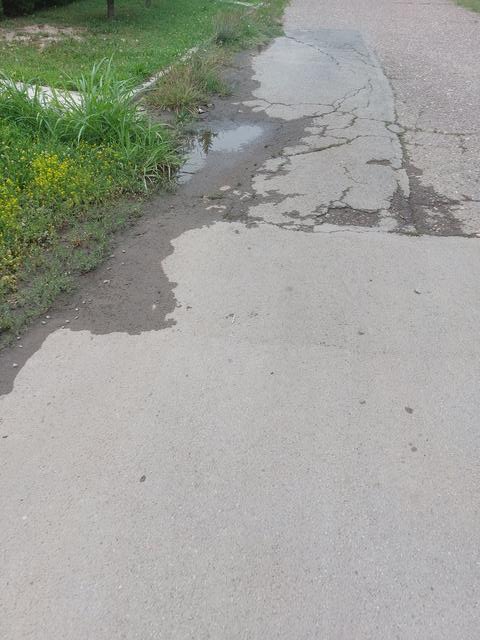pothole: (168, 108, 281, 199)
